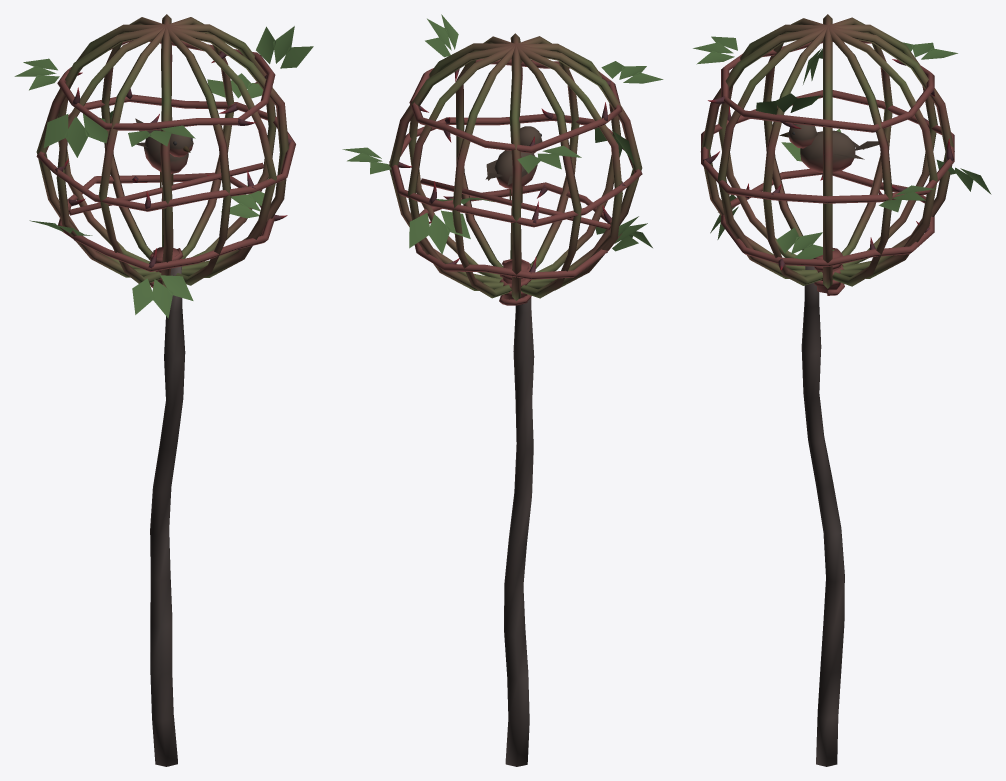
File: camp_briar_thorn_cage.glb
The picture shows the model from 3 angles, left to right: view 1: azimuth 30°, elevation 25°; view 2: azimuth 150°, elevation 25°; view 3: azimuth 270°, elevation 25°; orthographic projection. The views are drawn at different scales.
Visible parts, largest first — view 1: camp_briar_thorn_cage, camp_briar_thorn_cage_bird; view 2: camp_briar_thorn_cage, camp_briar_thorn_cage_bird; view 3: camp_briar_thorn_cage, camp_briar_thorn_cage_bird.
Boxes of the visible parts, bbox=[...] form: camp_briar_thorn_cage: bbox=[14, 14, 313, 766]; camp_briar_thorn_cage_bird: bbox=[135, 118, 193, 188]; camp_briar_thorn_cage: bbox=[342, 14, 663, 766]; camp_briar_thorn_cage_bird: bbox=[485, 126, 542, 202]; camp_briar_thorn_cage: bbox=[693, 14, 991, 766]; camp_briar_thorn_cage_bird: bbox=[779, 123, 888, 172].
Size of what is drawn, in the model's own units: 0.5715 by 1.46 by 0.5383.
